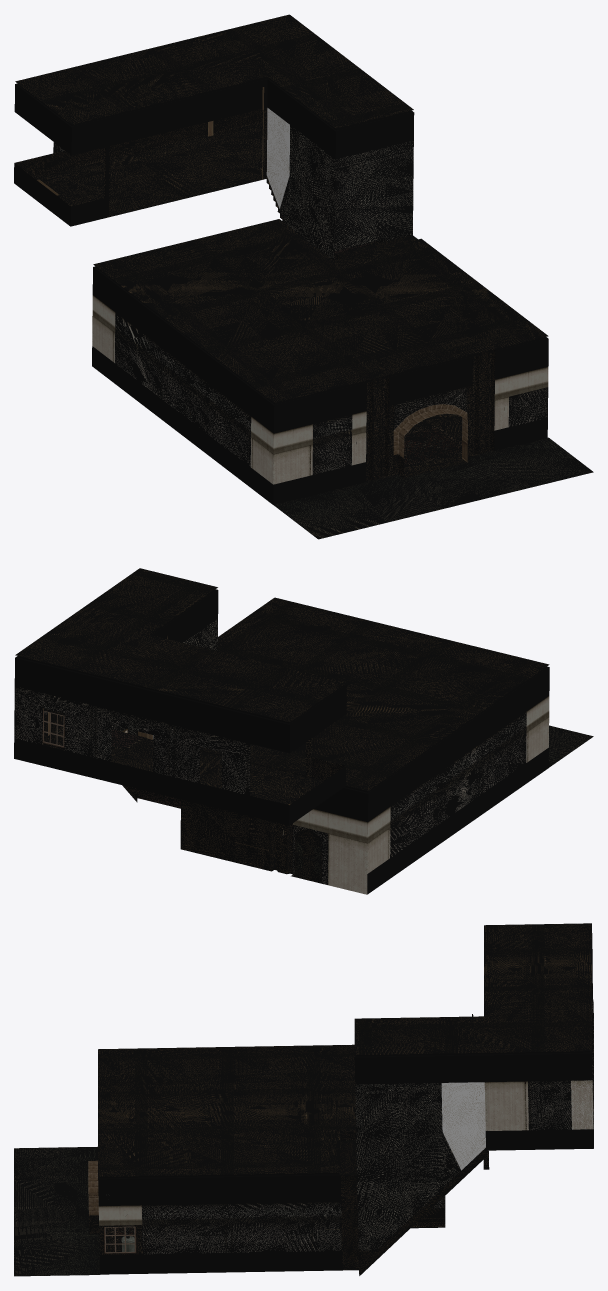
File: Lobby.glb
3 views of the same model, one above another, from view 1: azimuth 30°, elevation 25°; view 2: azimuth 150°, elevation 25°; view 3: azimuth 270°, elevation 25° (orthographic). The views are drawn at different scales.
Visible parts, largest first — view 1: instance_0.005, instance_0.006, instance_0.709, instance_0.652, instance_0.322, instance_0.148, instance_0.764, instance_0.138, instance_0.647, instance_0.714, instance_0.128, instance_0.601 (+12 smaller); view 2: instance_0.005, instance_0.006, instance_0.652, instance_0.111, instance_0.647, instance_0.138, instance_0.709, instance_0.126, instance_0.302, instance_0.714, instance_0.764, instance_0.301 (+7 smaller); view 3: instance_0.005, instance_0.006, instance_0.148, instance_0.322, instance_0.135, instance_0.709, instance_0.652, instance_0.650, instance_0.149, instance_0.647, instance_0.116, instance_0.115 (+8 smaller).
Part boxes in pixels (box(x1,y1,x2,y2)): instance_0.005: box(93, 219, 548, 402); instance_0.006: box(15, 14, 413, 128); instance_0.709: box(92, 266, 548, 433); instance_0.652: box(14, 77, 414, 159); instance_0.322: box(273, 437, 593, 539); instance_0.148: box(279, 125, 413, 259); instance_0.764: box(34, 122, 267, 218); instance_0.138: box(115, 312, 251, 466); instance_0.647: box(14, 109, 262, 226); instance_0.714: box(92, 346, 365, 504); instance_0.128: box(250, 417, 312, 484); instance_0.601: box(471, 349, 495, 454); instance_0.005: box(200, 597, 549, 790); instance_0.006: box(15, 568, 346, 722); instance_0.652: box(14, 589, 346, 753); instance_0.111: box(14, 686, 250, 795); instance_0.647: box(14, 713, 345, 825); instance_0.138: box(390, 712, 526, 857); instance_0.709: box(294, 666, 549, 822); instance_0.126: box(293, 806, 390, 894); instance_0.302: box(180, 799, 270, 870); instance_0.714: box(367, 747, 548, 894); instance_0.764: box(43, 724, 323, 804); instance_0.301: box(294, 829, 322, 883); instance_0.005: box(98, 1044, 356, 1176); instance_0.006: box(354, 923, 591, 1054); instance_0.148: box(355, 1083, 461, 1250); instance_0.322: box(14, 1146, 100, 1276); instance_0.135: box(142, 1202, 315, 1254); instance_0.709: box(98, 1172, 341, 1206); instance_0.652: box(354, 933, 592, 1084); instance_0.650: box(99, 1251, 342, 1274); instance_0.149: box(441, 1082, 485, 1170); instance_0.647: box(485, 1002, 593, 1150); instance_0.116: box(484, 1081, 528, 1130); instance_0.115: box(528, 1080, 571, 1130).
Size of the model in its own units: 122 by 99.76 by 232.
Materials: 52 (51 with a texture image).
